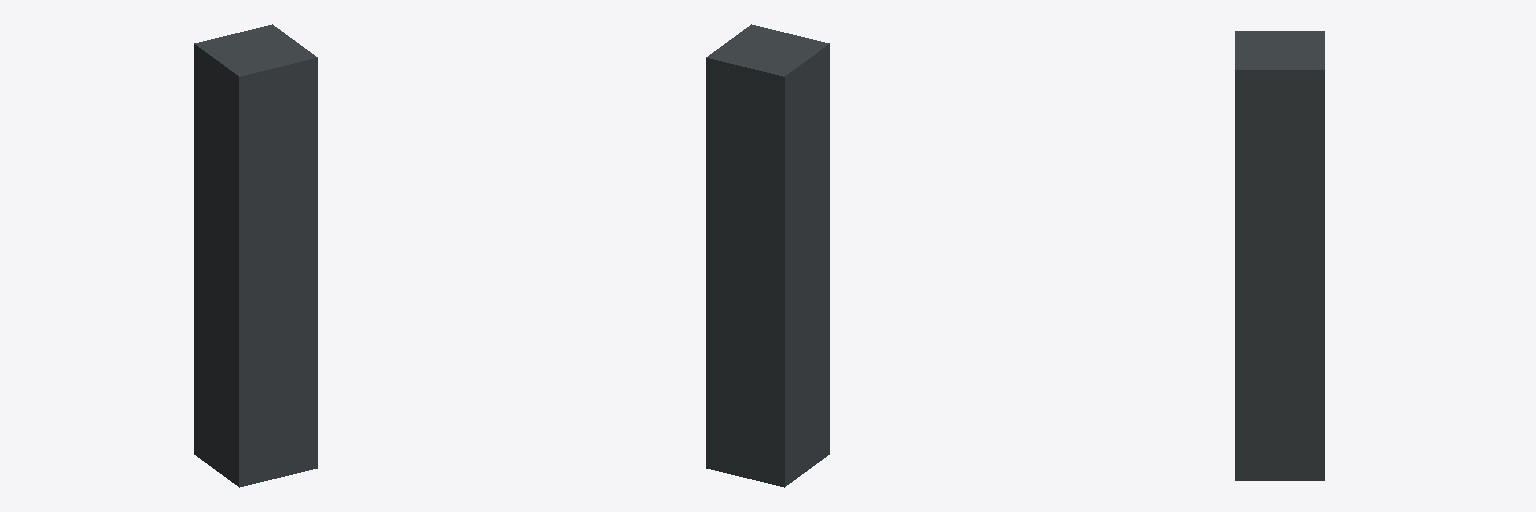
3 views of the same model, side by side, from view 1: azimuth 30°, elevation 25°; view 2: azimuth 150°, elevation 25°; view 3: azimuth 270°, elevation 25° (orthographic).
Visible parts, largest first — view 1: Object1; view 2: Object1; view 3: Object1.
Part boxes in pixels (x1,y1,x2,y2): Object1: (194,24,317,487); Object1: (706,24,829,487); Object1: (1235,31,1324,480).
Bounding box in the file's own units: 2 × 10 × 2.
1 materials, 1 textured.